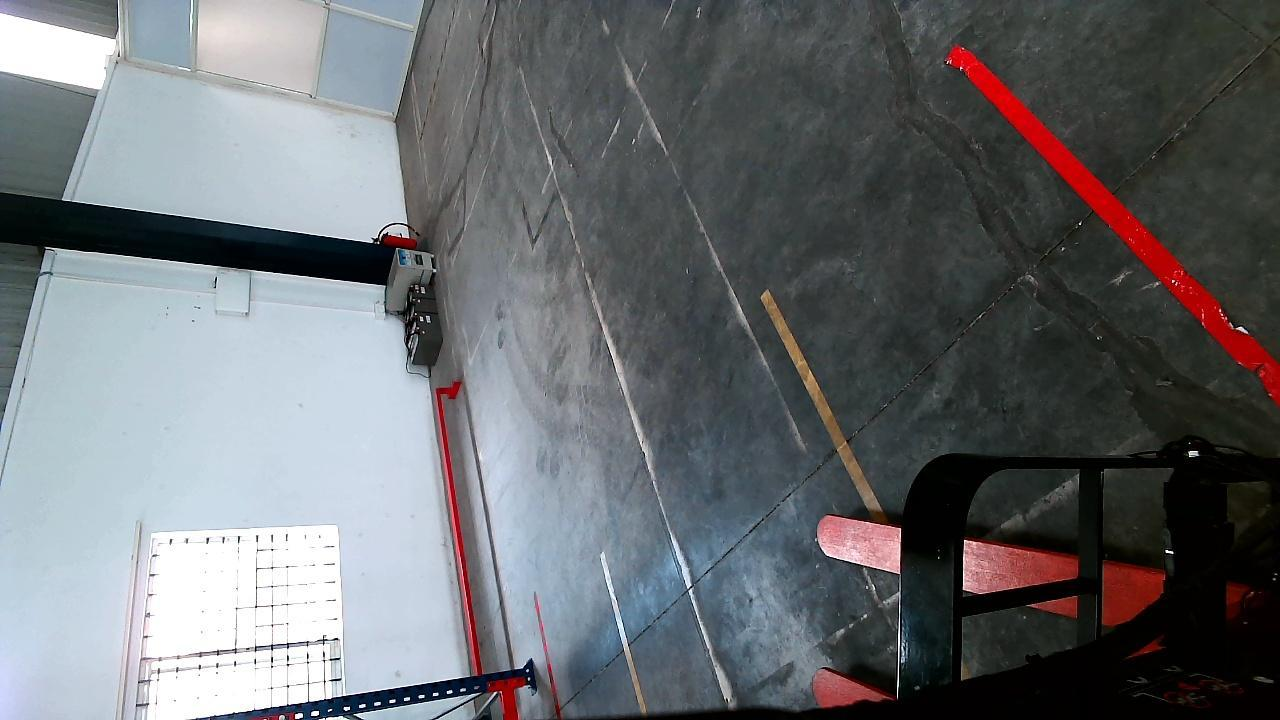red_line: (944, 44, 1278, 398)
yellow_line: (758, 291, 888, 516), (599, 551, 650, 715)
